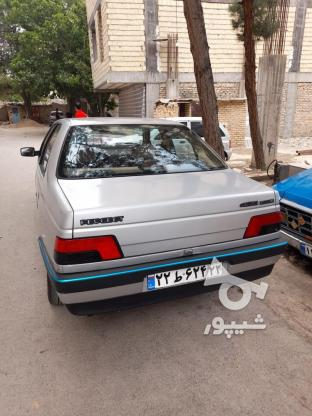car: (145, 259, 226, 294)
